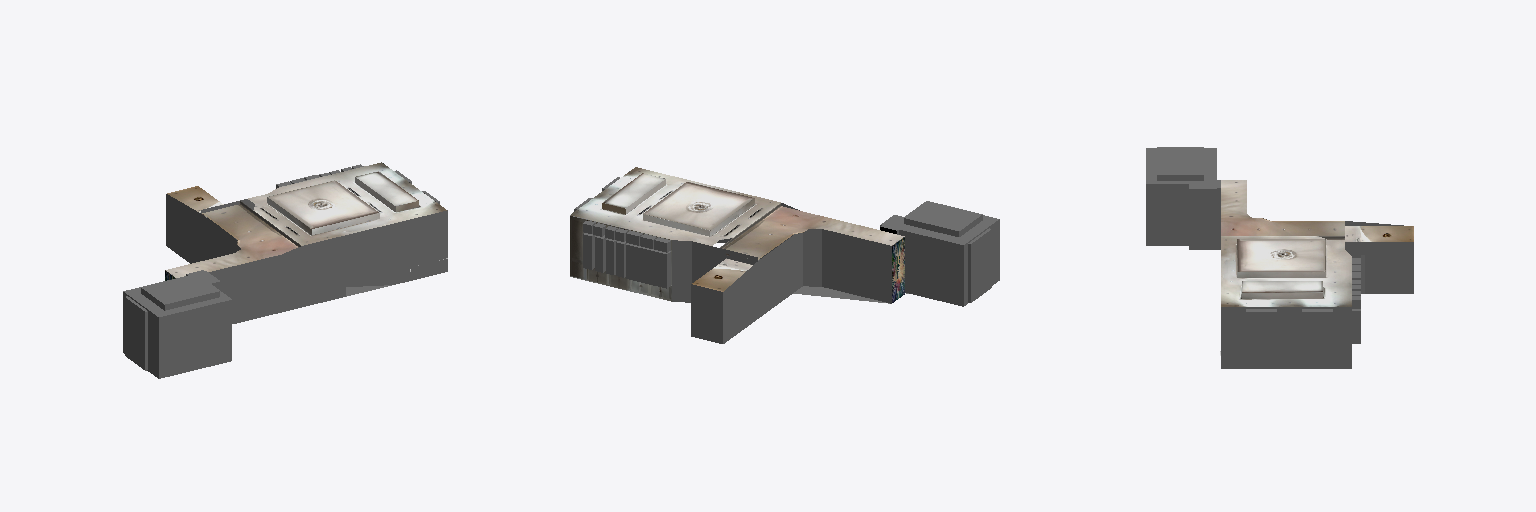
3 views of the same model, side by side, from view 1: azimuth 30°, elevation 25°; view 2: azimuth 150°, elevation 25°; view 3: azimuth 270°, elevation 25° (orthographic).
Size of the model in its own units: 19.32 by 3.74 by 13.45.
Materials: 27 (3 with a texture image).